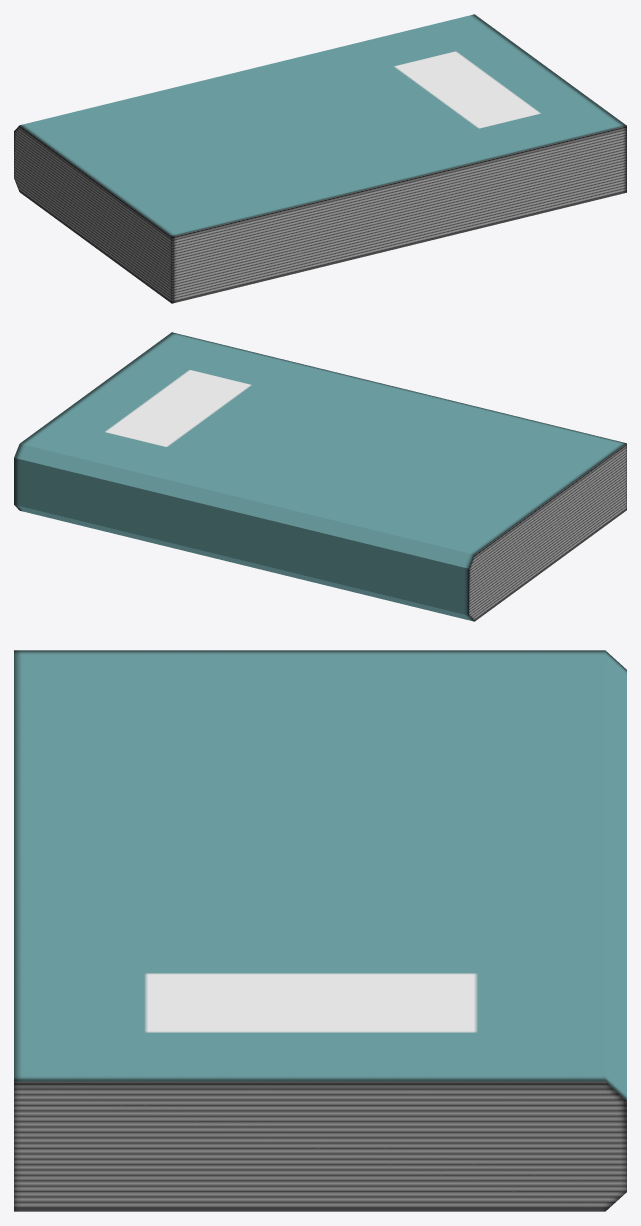
Rendered from book1.fbx.
The picture shows the model from 3 angles, top to bottom: view 1: azimuth 30°, elevation 25°; view 2: azimuth 150°, elevation 25°; view 3: azimuth 270°, elevation 25°; orthographic projection. The views are drawn at different scales.
Parts seen in each view (by area): view 1: polySurface1123; view 2: polySurface1123; view 3: polySurface1123.
Boxes of the visible parts, x1,y1,x2,y2 form: polySurface1123: [14, 14, 626, 303]; polySurface1123: [14, 332, 626, 621]; polySurface1123: [14, 650, 626, 1211].
Size of the model in its own units: 0.4212 by 0.0592 by 0.253.
